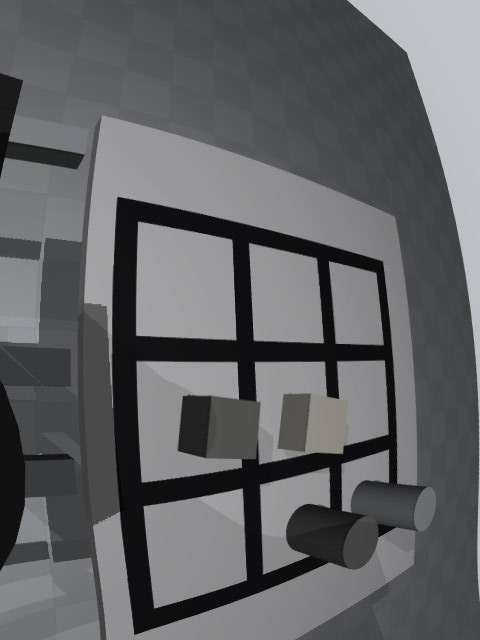can: (350, 480, 436, 532)
cube: (178, 395, 261, 459)
cylinder: (286, 504, 379, 570)
foam: (278, 393, 348, 454)
